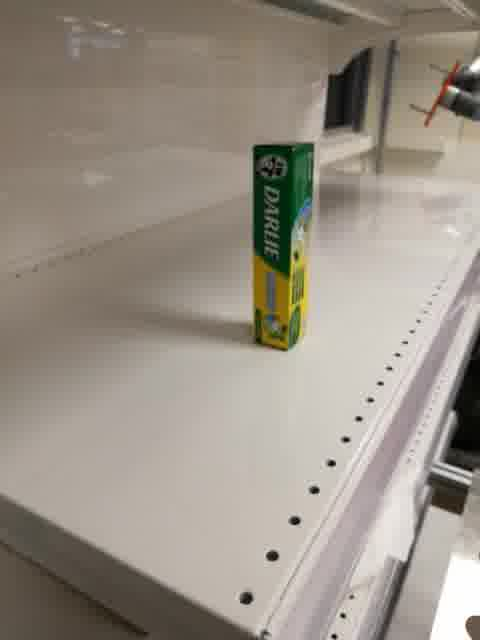toothpaste: (251, 142, 314, 354)
